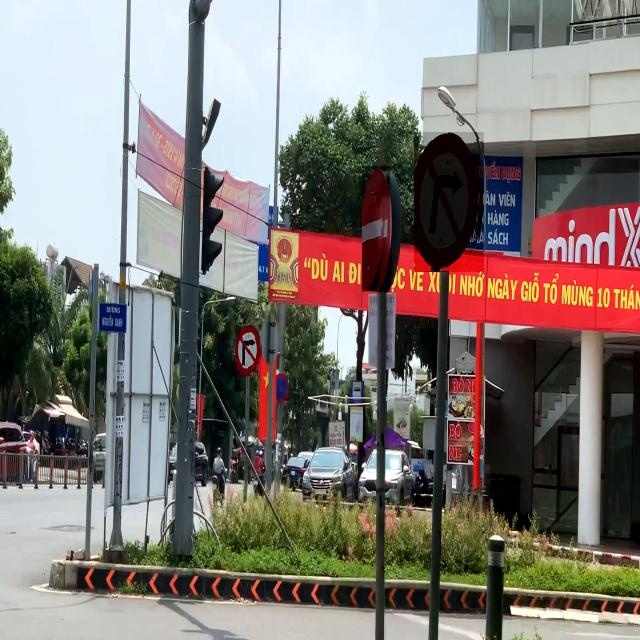bien_cam: (414, 132, 484, 272), (362, 166, 390, 292), (236, 325, 262, 376)
